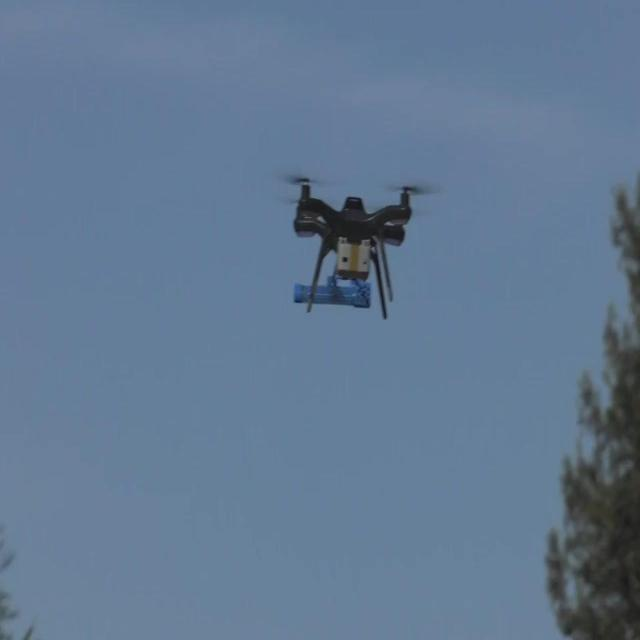drone: (291, 173, 413, 320)
